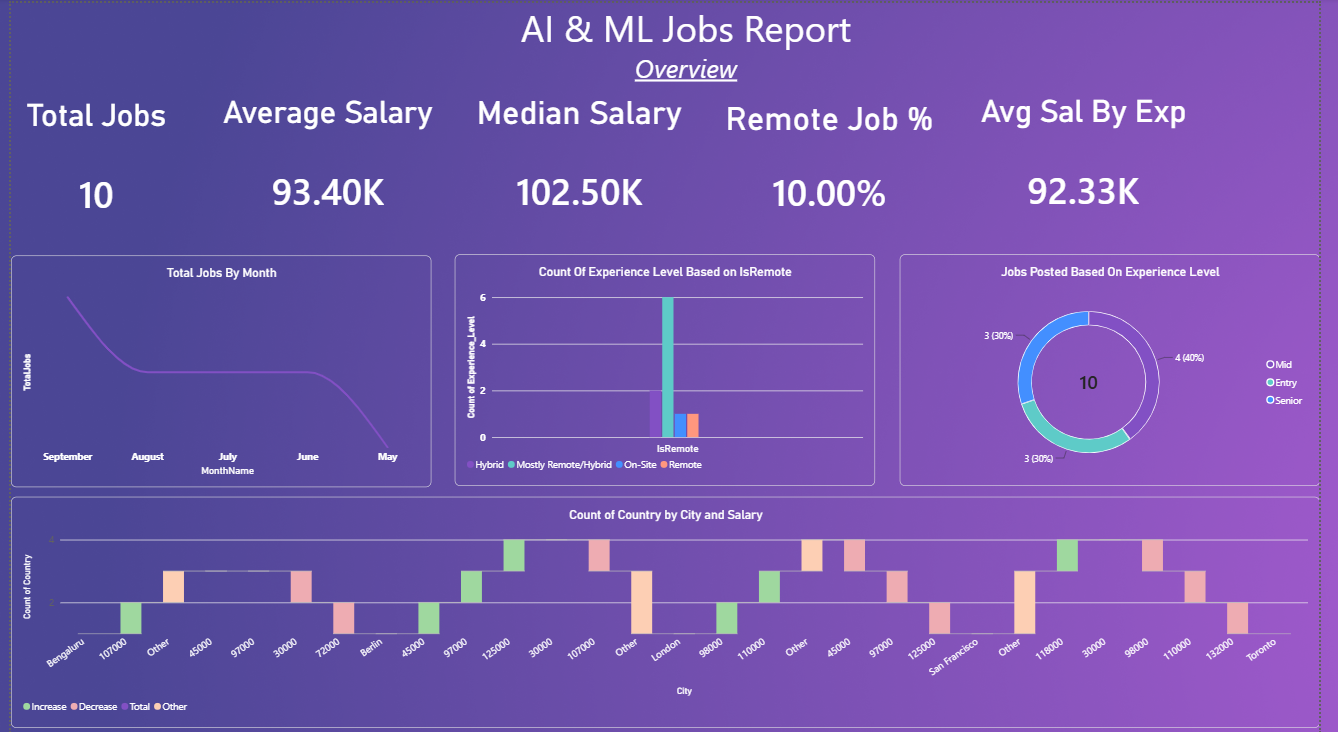

This screenshot's page, from the dashboard's own definition file:
{"tool":"powerbi","page":{"name":"Overview","canvas":[1920,1080],"ordinal":0},"visuals":[{"type":"textbox","box":[564.9,0,851.1,91.7],"z":0},{"type":"cardVisual","title":"Total Jobs","fields":{"Data":["Fact_Jobs.TotalJobs"]},"box":[0,136.7,250,215],"z":1000},{"type":"cardVisual","title":"Average Salary","fields":{"Data":["Fact_Jobs.AvgSalary"]},"box":[303.3,133.3,325,215],"z":2000},{"type":"cardVisual","title":"Median Salary","fields":{"Data":["Fact_Jobs.MedianSalary"]},"box":[678.3,131.7,311.7,215],"z":3000},{"type":"cardVisual","title":"Remote Job %","fields":{"Data":["Fact_Jobs.RemoteJobPercent"]},"box":[1043.3,141.7,315,198.3],"z":4000},{"type":"cardVisual","title":"Avg Sal By Exp","fields":{"Data":["Fact_Jobs.AvgSalaryByExperience"]},"box":[1410,131.7,326.7,215],"z":5000},{"type":"lineChart","title":"Total Jobs By Month","fields":{"Category":["Dim_Date.MonthName"],"Y":["Fact_Jobs.TotalJobs"]},"box":[0,370.5,616.7,340],"z":6000},{"type":"clusteredColumnChart","title":"Count Of Experience Level Based on IsRemote","fields":{"Series":["Fact_Jobs.IsRemote"],"Y":["CountNonNull(Fact_Jobs.Experience_Level)"]},"box":[651.2,368.7,616.7,340],"z":7000},{"type":"donutChart","title":"Jobs Posted Based On Experience Level","fields":{"Category":["Fact_Jobs.Experience_Level"],"Y":["Fact_Jobs.TotalJobs"]},"box":[1304.2,368.7,616.7,340],"z":8000},{"type":"waterfallChart","title":"Count of Country by City and Salary","fields":{"Breakdown":["Fact_Jobs.Salary_USD"],"Category":["Dim_Locations.City"],"Y":["CountNonNull(Dim_Locations.Country)"]},"box":[0,724.5,1920.5,339.3],"z":9000},{"type":"textbox","box":[832.7,69.7,315.5,62.4],"z":10000}]}

Visuals, with their boxes in screenshot pixels (x1, y1, x2, y2), scaled from the page's 1920x1080 canvas onto the 1338x732 screenshot:
textbox: 394,0,987,62
"Total Jobs" cardVisual: 0,93,174,238
"Average Salary" cardVisual: 211,90,438,236
"Median Salary" cardVisual: 473,89,690,235
"Remote Job %" cardVisual: 727,96,947,230
"Avg Sal By Exp" cardVisual: 983,89,1210,235
"Total Jobs By Month" lineChart: 0,251,430,482
"Count Of Experience Level Based on IsRemote" clusteredColumnChart: 454,250,884,480
"Jobs Posted Based On Experience Level" donutChart: 909,250,1337,480
"Count of Country by City and Salary" waterfallChart: 0,491,1337,721
textbox: 580,47,800,90
